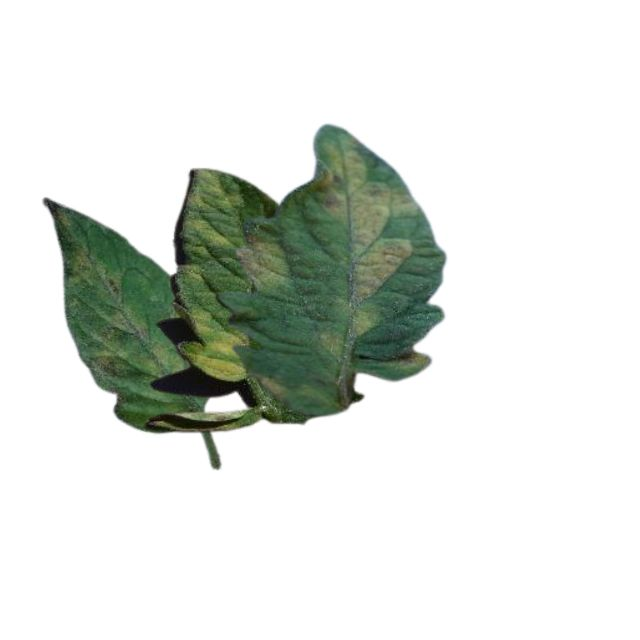Leaf_Mold: (41, 203, 179, 387), (310, 138, 420, 307), (181, 168, 243, 257), (178, 306, 249, 383), (316, 310, 379, 361), (239, 238, 294, 293), (397, 341, 432, 372)
